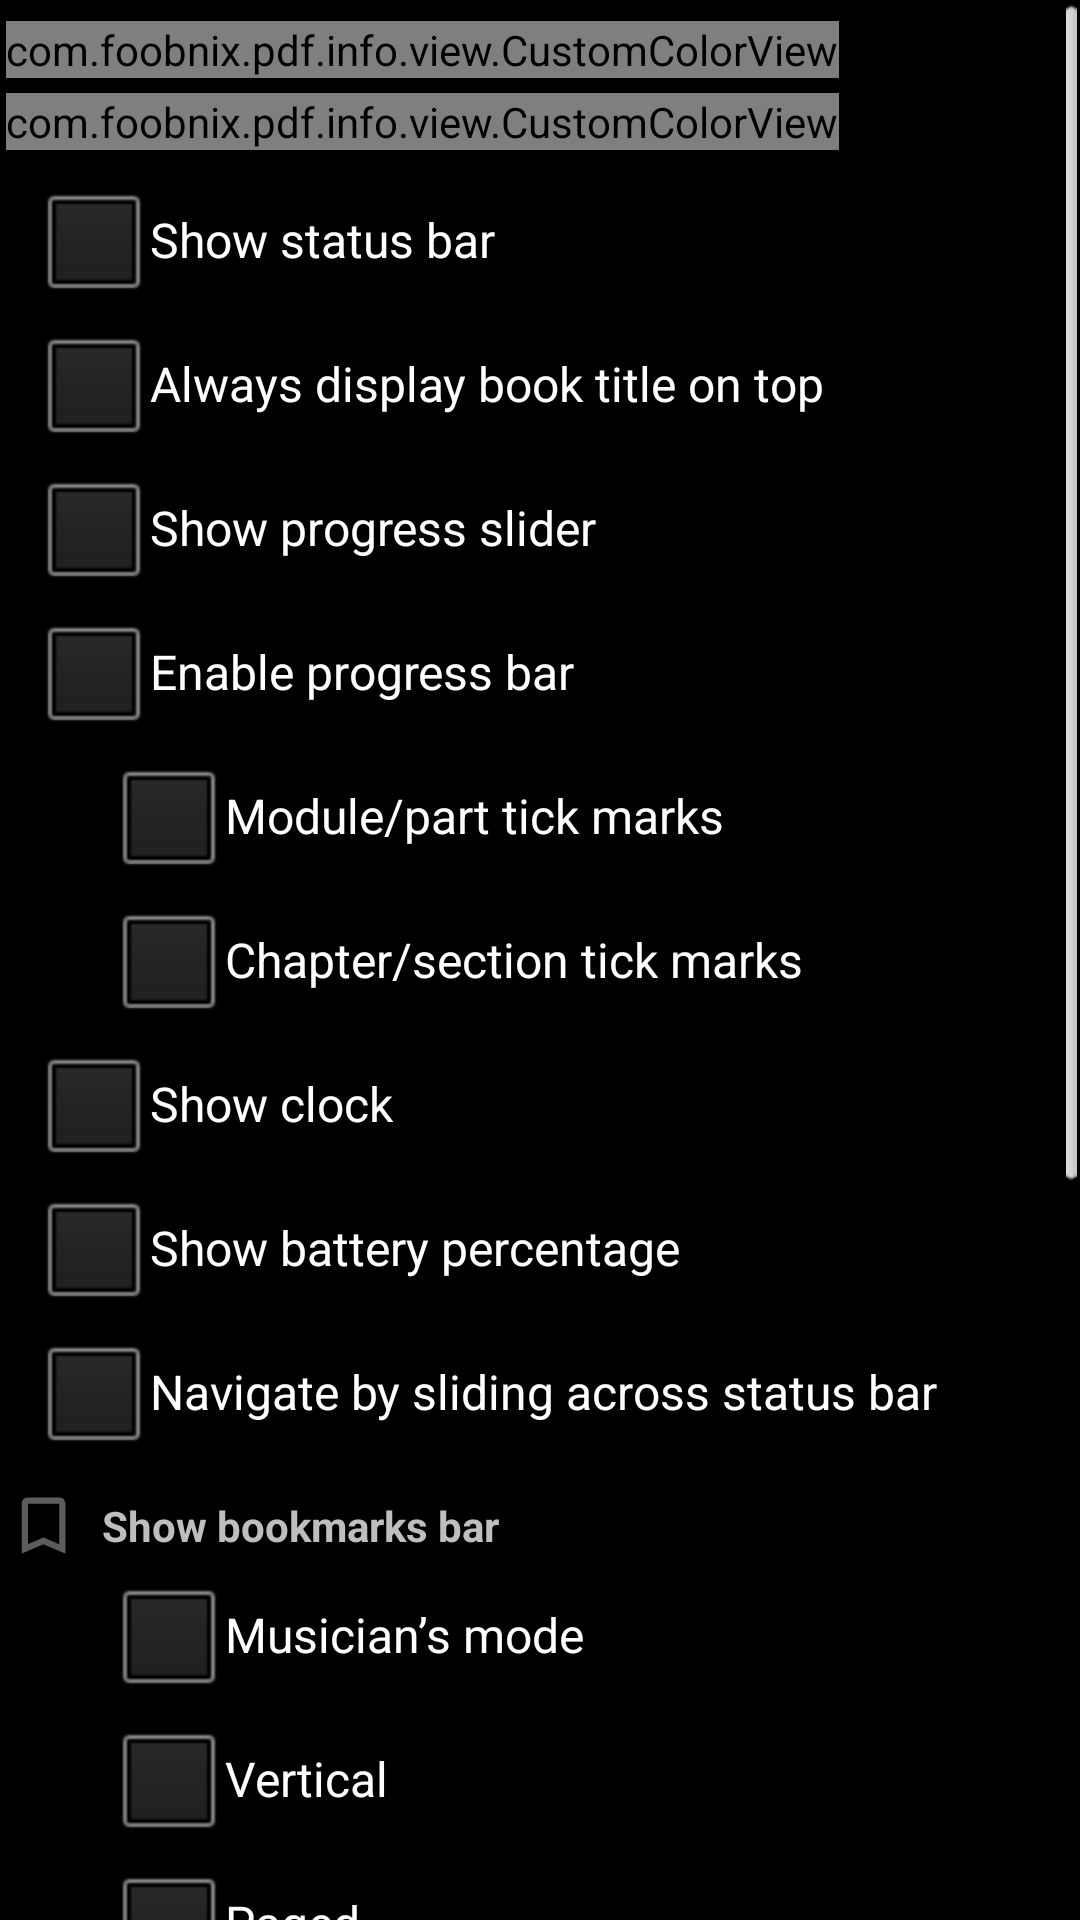

Icons on this 1080*1920 Android screen, each with its box as (x1, y1, x2, y2):
glyphicons bookmark: (21, 1497, 66, 1554)
